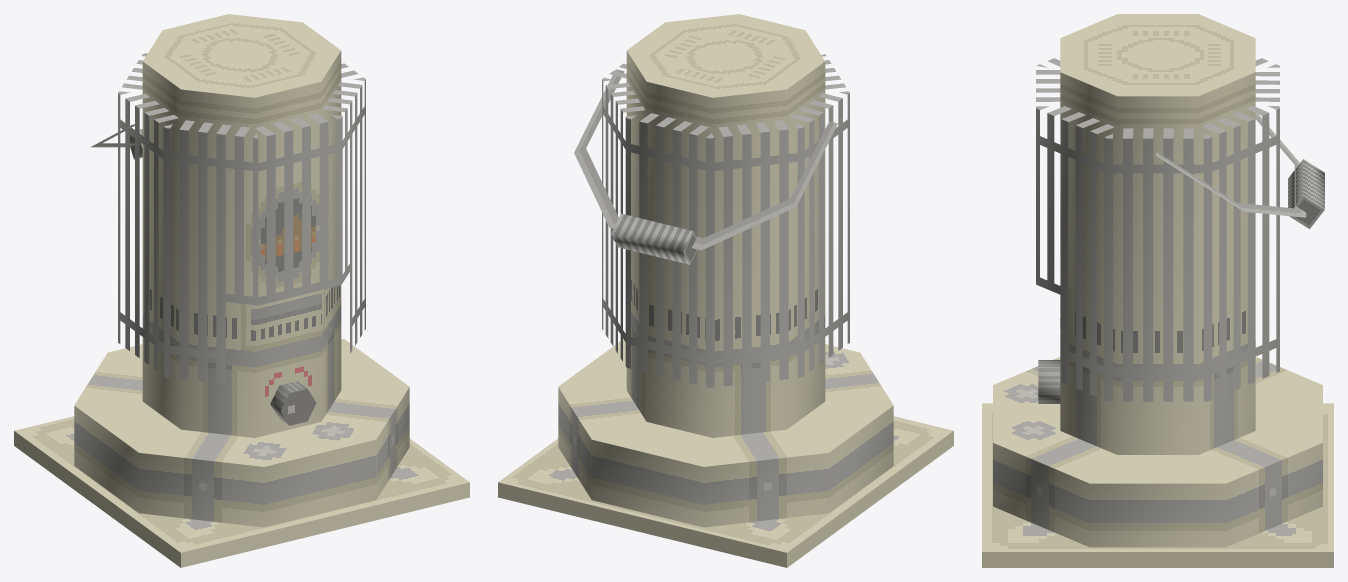
File: 014a_Kerosene_Stove.glb
The picture shows the model from 3 angles, left to right: view 1: azimuth 30°, elevation 25°; view 2: azimuth 150°, elevation 25°; view 3: azimuth 270°, elevation 25°; orthographic projection. The views are drawn at different scales.
Parts seen in each view (by area): view 1: part_0; view 2: part_0; view 3: part_0.
Boxes of the visible parts, x1,y1,x2,y2 form: part_0: (14, 14, 469, 567); part_0: (498, 14, 953, 567); part_0: (982, 14, 1333, 567).
Size of the model in its own units: 0.56 by 0.77 by 0.56.
Materials: 1 (1 with a texture image).
